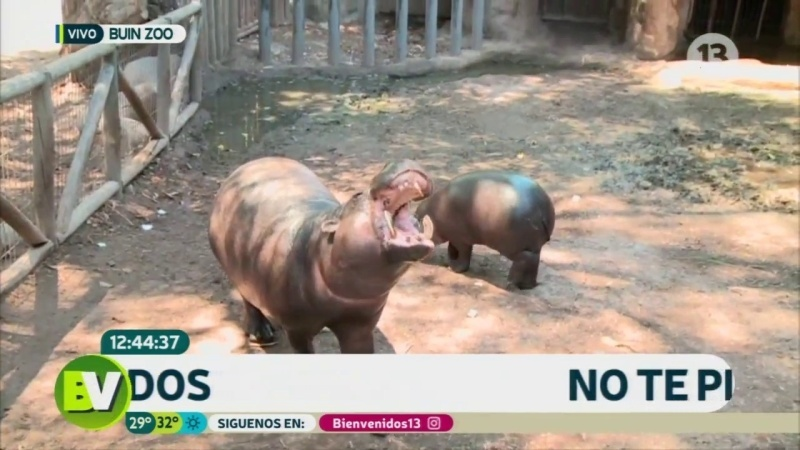hipopotamo: (200, 150, 438, 357), (398, 147, 571, 297)
